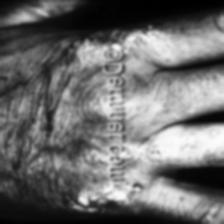Non-Cancerous Skin Condition: (40, 181, 136, 213), (136, 129, 224, 162), (64, 30, 162, 50)
